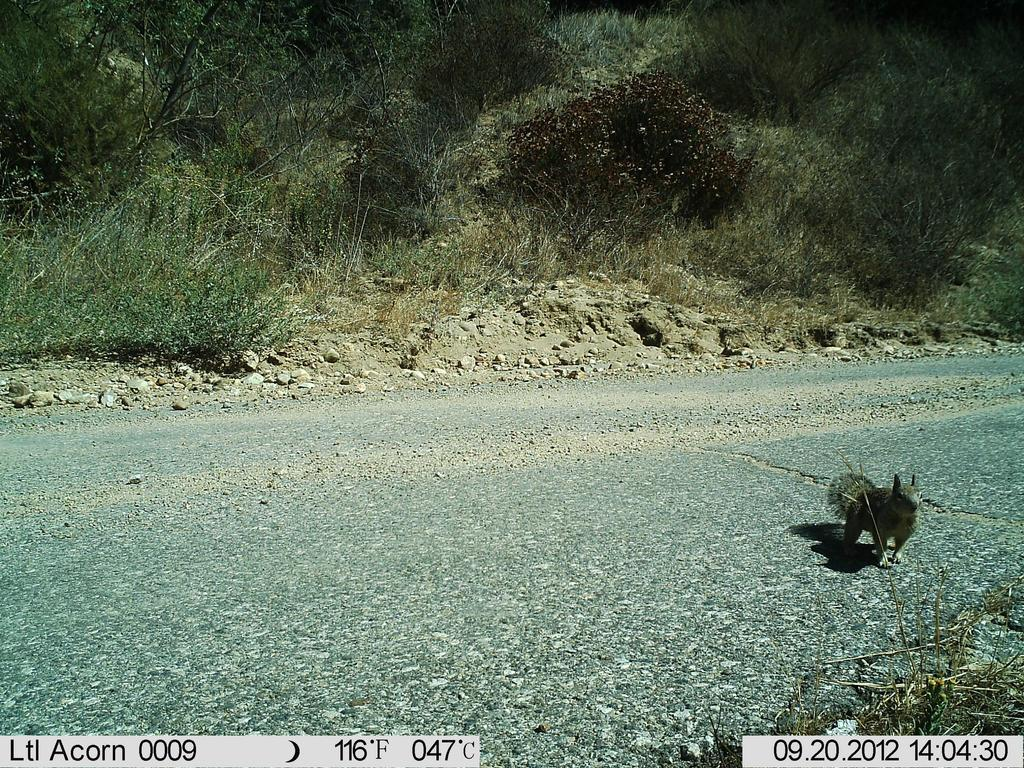squirrel: (817, 463, 927, 571)
